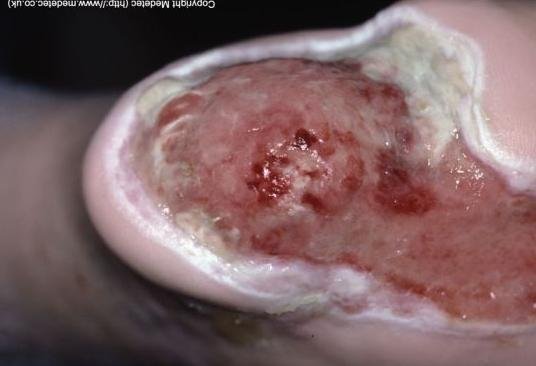NonPU: (105, 10, 536, 329)
